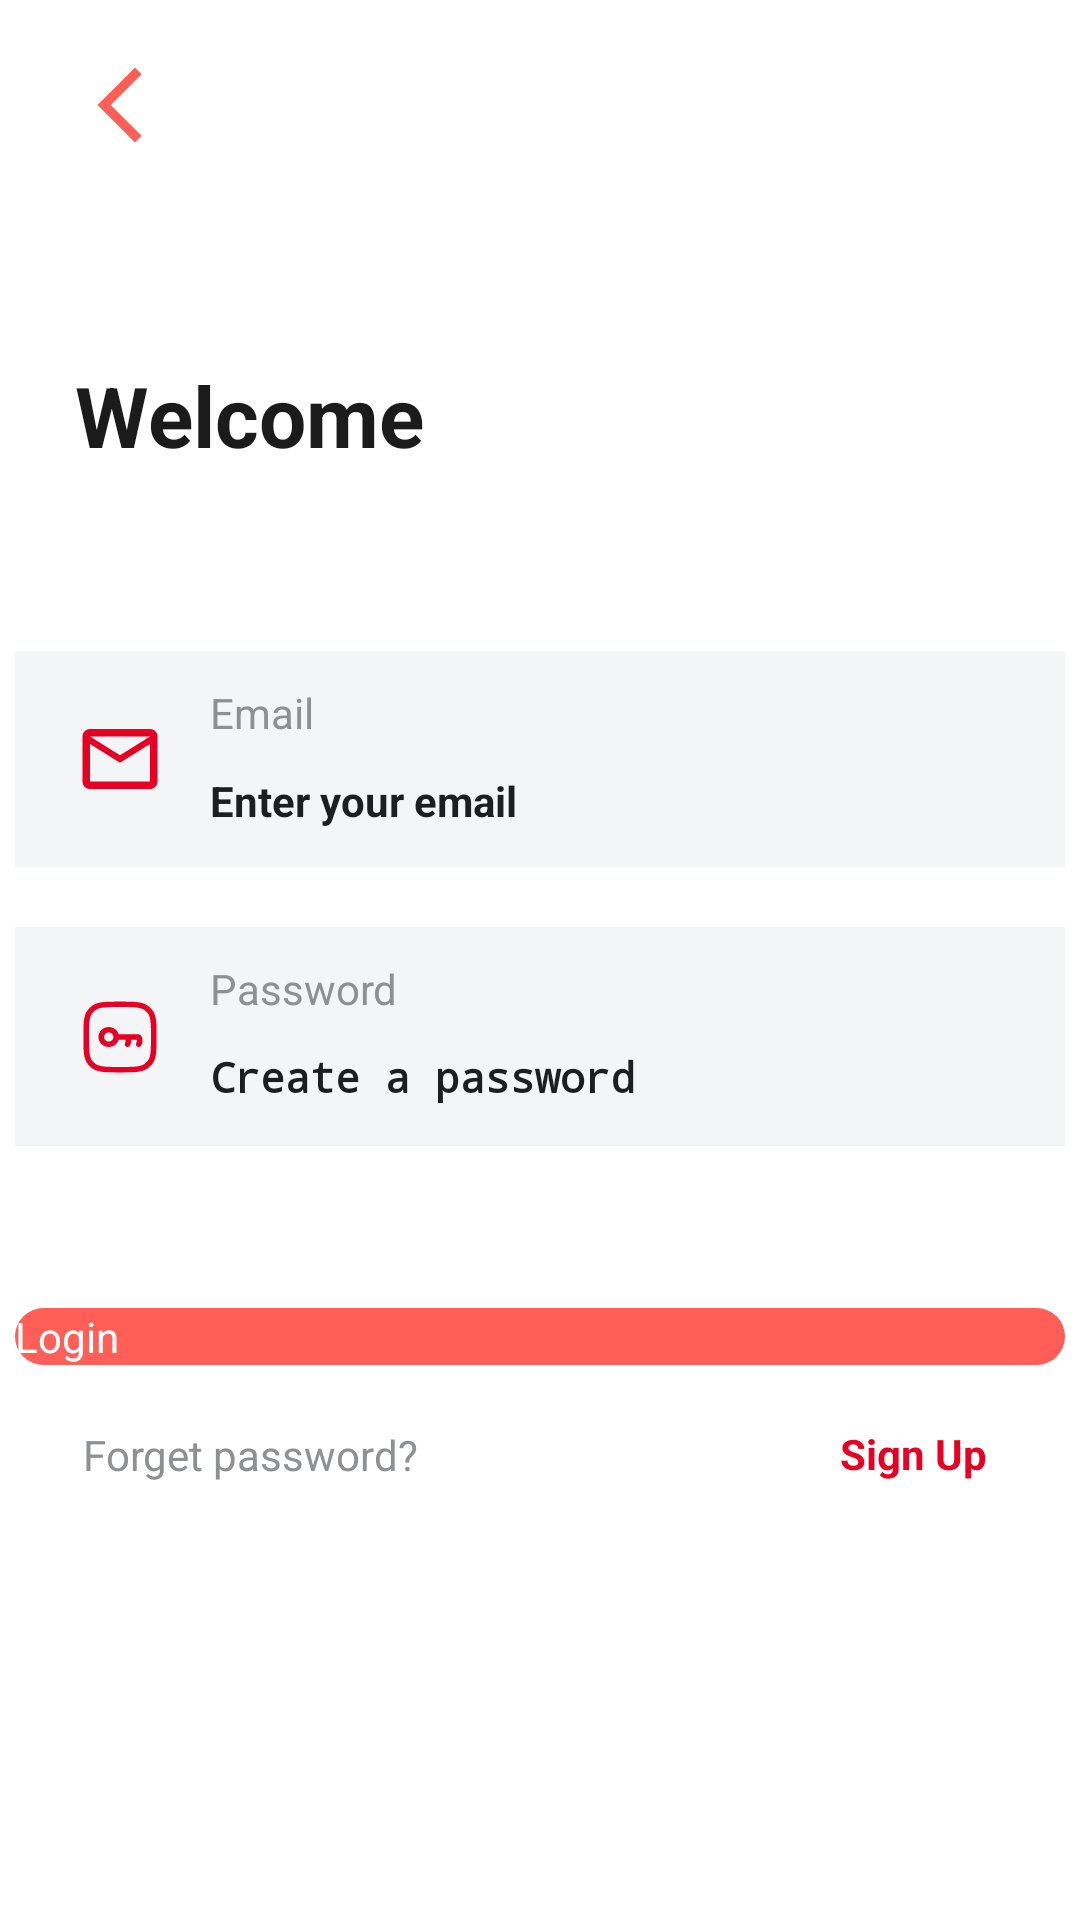

Screen size 1080px×1920px. Icon name, then its center in pixels as (x,y):
arrow back: (120,105)
